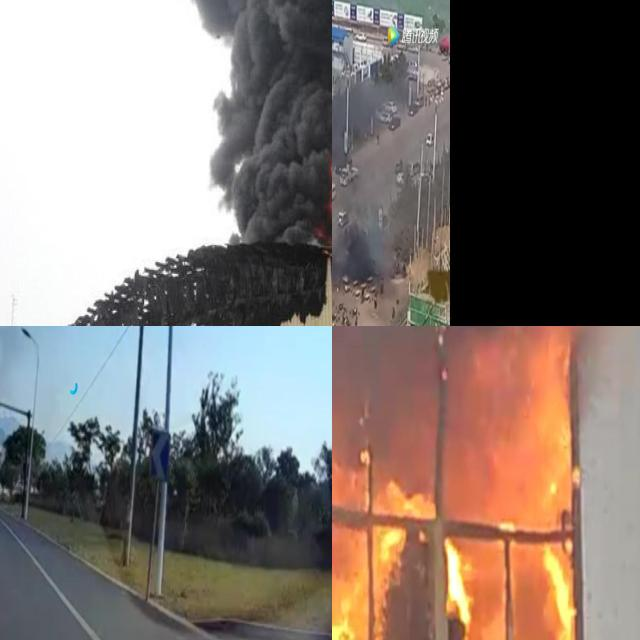fire: (332, 326, 589, 640), (332, 80, 383, 153)
smoke: (179, 0, 332, 326), (332, 216, 377, 287)
